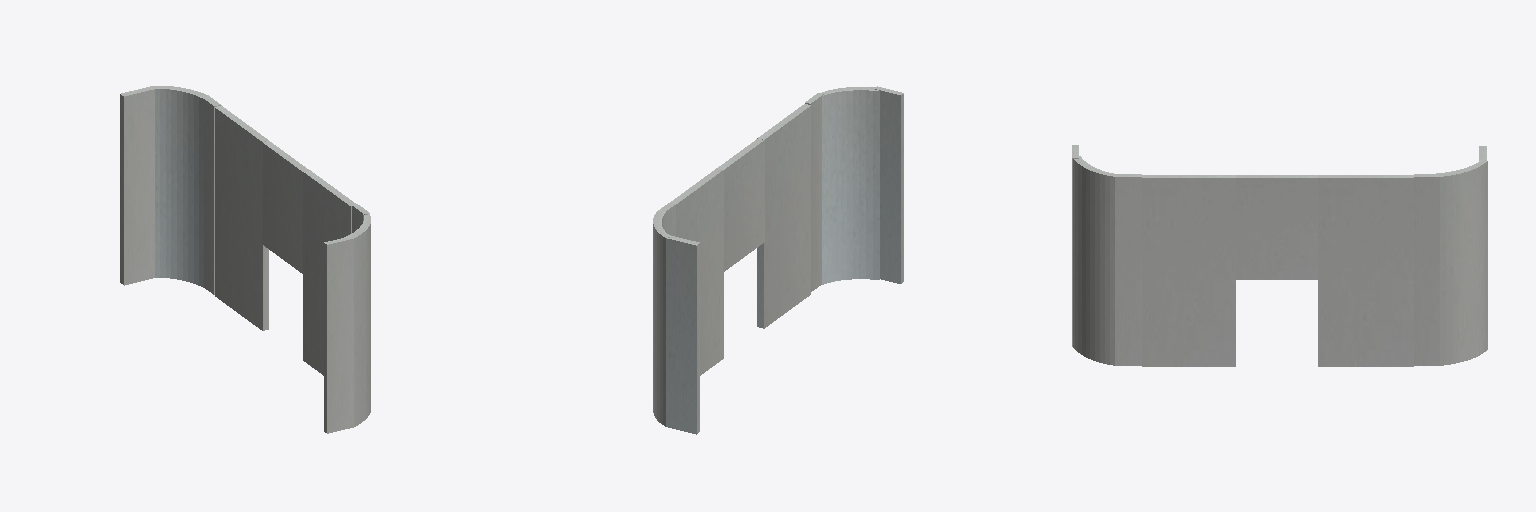
The picture shows the model from 3 angles: view 1: azimuth 30°, elevation 25°; view 2: azimuth 150°, elevation 25°; view 3: azimuth 270°, elevation 25°; orthographic projection.
Visible parts, largest first — view 1: pasted__pCube8 group88, polySurface2 pasted__pCube4 group85, frontGlass:pCube6, pCube4 polySurface5, pCube8, pasted__pasted__pCube8 pasted__group88 group89, frontGlass:pCube4polySurface4, pCube7; view 2: frontGlass:pCube4polySurface4, pCube8, frontGlass:pCube6, pasted__pCube8 group88, pCube4 polySurface5, pasted__pasted__pCube8 pasted__group88 group89, polySurface2 pasted__pCube4 group85, polySurface3 pCube4; view 3: pasted__pCube8 group88, pCube8, polySurface2 pasted__pCube4 group85, pasted__pasted__pCube8 pasted__group88 group89, frontGlass:pCube4polySurface4, polySurface3 pCube4, pCube7.
Part boxes in pixels (x1,y1,x2,y2): pasted__pCube8 group88: (215, 105, 268, 330); polySurface2 pasted__pCube4 group85: (150, 86, 207, 287); frontGlass:pCube6: (120, 87, 154, 285); pCube4 polySurface5: (324, 236, 353, 433); pCube8: (303, 170, 355, 375); pasted__pasted__pCube8 pasted__group88 group89: (263, 141, 308, 273); frontGlass:pCube4polySurface4: (344, 214, 370, 426); pCube7: (204, 95, 220, 294); frontGlass:pCube4polySurface4: (821, 87, 879, 284); pCube8: (757, 104, 810, 328); frontGlass:pCube6: (666, 235, 699, 434); pasted__pCube8 group88: (670, 168, 723, 375); pCube4 polySurface5: (874, 86, 903, 283); pasted__pasted__pCube8 pasted__group88 group89: (718, 139, 764, 271); polySurface2 pasted__pCube4 group85: (653, 212, 671, 426); polySurface3 pCube4: (805, 93, 823, 291); pasted__pCube8 group88: (1318, 175, 1413, 366); pCube8: (1142, 175, 1235, 366); polySurface2 pasted__pCube4 group85: (1436, 159, 1487, 365); pasted__pasted__pCube8 pasted__group88 group89: (1236, 175, 1317, 279); frontGlass:pCube4polySurface4: (1073, 156, 1114, 365); polySurface3 pCube4: (1115, 174, 1141, 365); pCube7: (1414, 174, 1439, 365).
Size of the model in its own units: 2.84 by 7.95 by 15.73.
Materials: 9 (1 with a texture image).